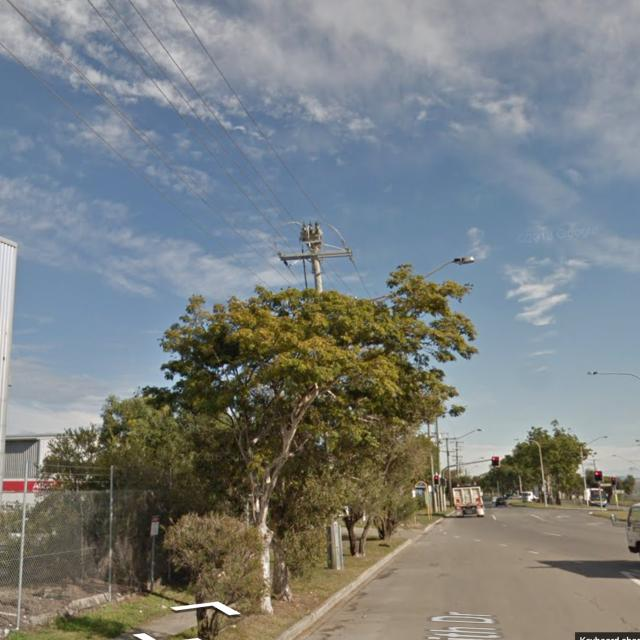HV-switch: (299, 220, 323, 244)
HV-transmission: (276, 240, 354, 268)
crossarm: (279, 249, 352, 259), (282, 253, 351, 261), (431, 432, 448, 434), (450, 442, 464, 444), (441, 450, 455, 452), (441, 438, 455, 440), (451, 455, 463, 457)
steel-pole: (538, 446, 547, 506), (441, 470, 445, 512)
streetlight: (422, 256, 475, 279), (439, 428, 483, 448), (587, 372, 640, 379), (514, 439, 540, 446), (434, 475, 439, 485)
timber-pole: (312, 245, 342, 570), (427, 424, 437, 515), (446, 440, 453, 508), (456, 441, 458, 478)
traffic-light: (594, 471, 602, 482), (492, 456, 499, 466), (440, 478, 446, 487), (434, 475, 439, 485), (611, 477, 616, 485)
